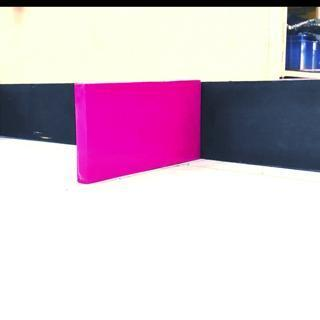xparking: (75, 84, 200, 170)
